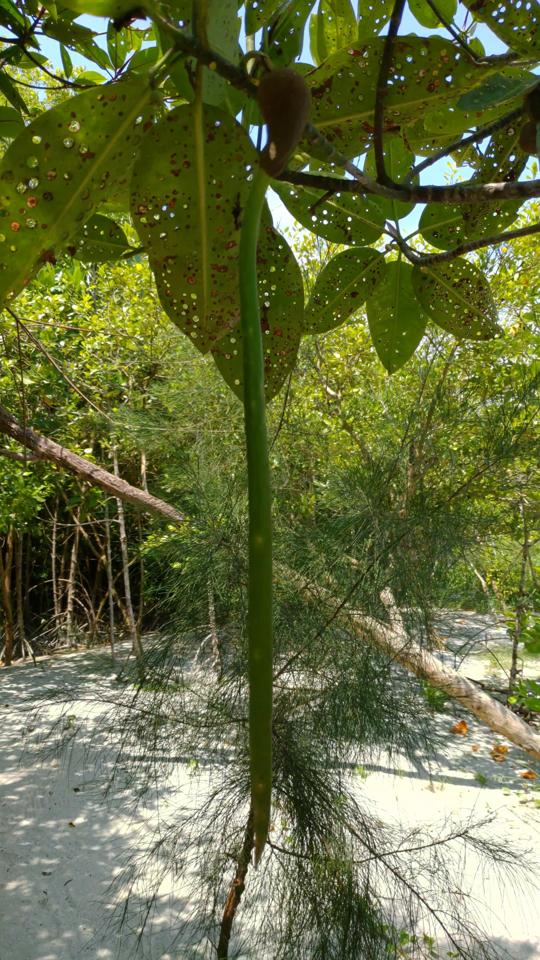mentah: (220, 53, 327, 890)
